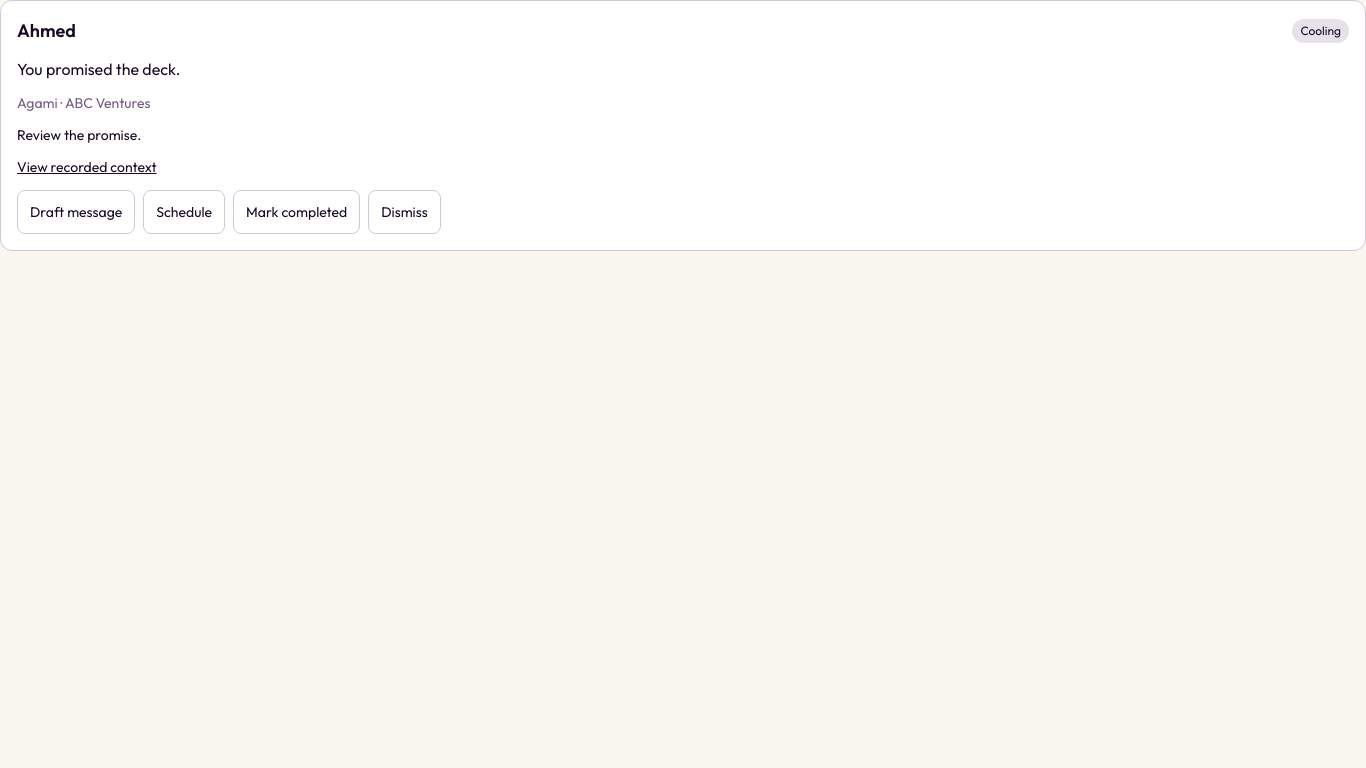
Scenario: Approved relationship actions › drafting does not complete the follow-up or send a message
The width and height of the screenshot is (1366, 768).
Click the button "Draft message".
click(76, 212)  # box [17,190,135,234]
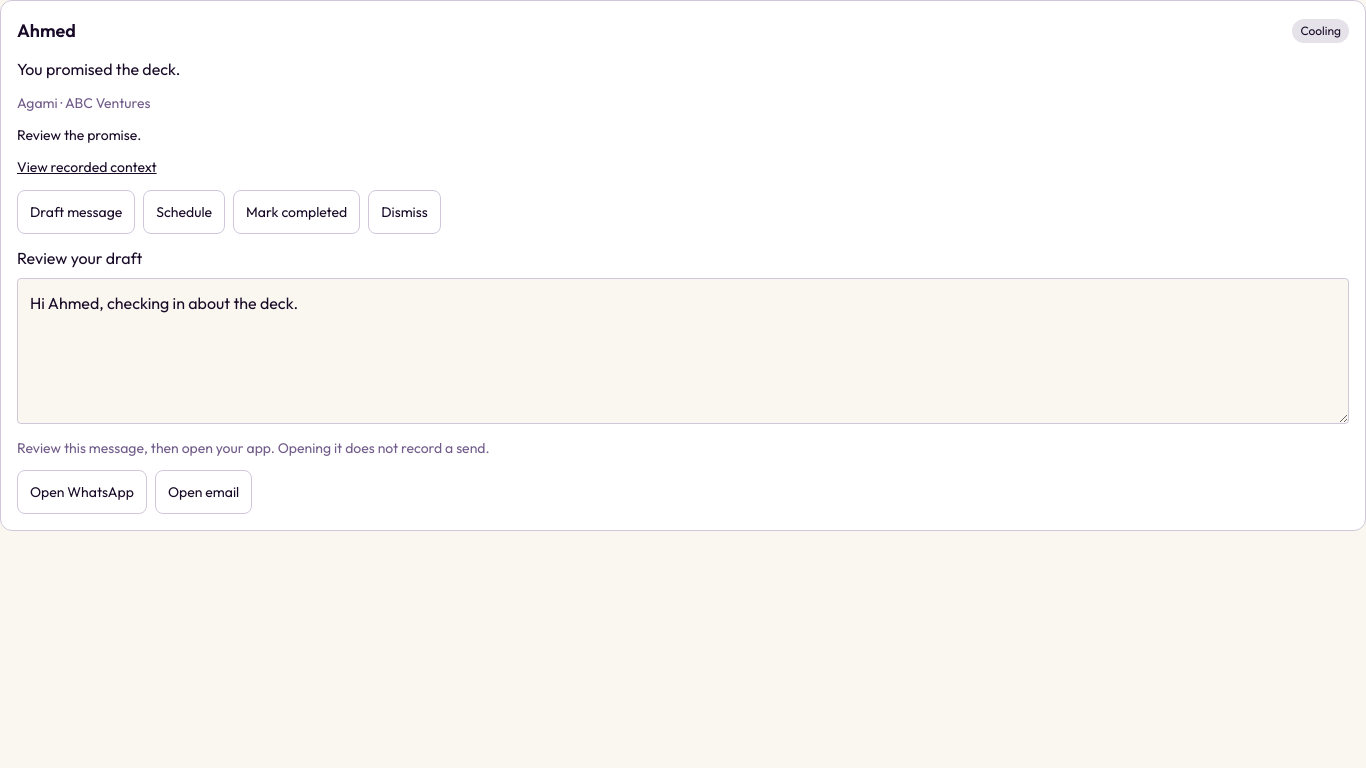
Check: the text box named "Follow-up draft" holds "Hi Ahmed, checking in about the deck.", box [17,278,1349,424]
Check: the text "Opening it does not record a send" is shown, box [17,439,490,457]
